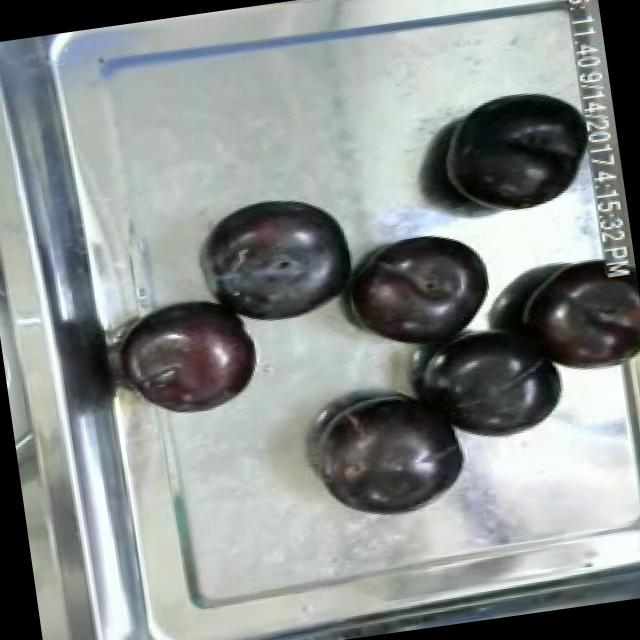Fruit: (424, 77, 602, 228), (301, 378, 481, 526), (196, 185, 367, 335), (329, 220, 503, 361), (115, 287, 269, 423), (418, 326, 576, 449), (518, 271, 640, 381)
